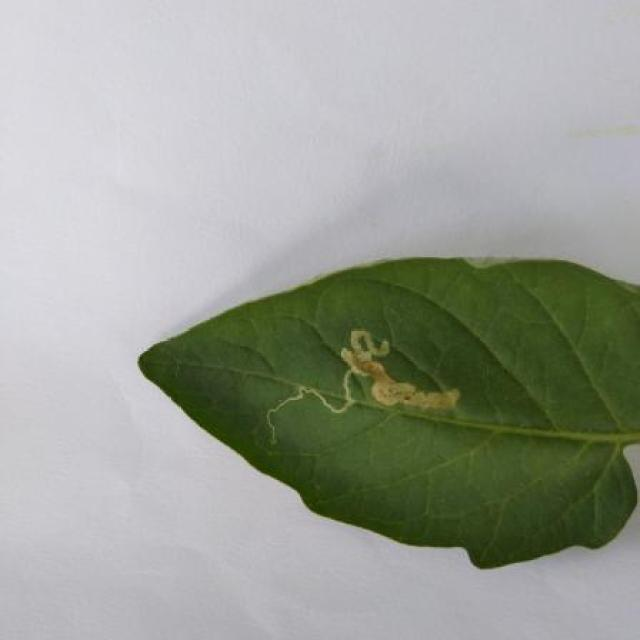Leaf Miner: (137, 255, 640, 574)
